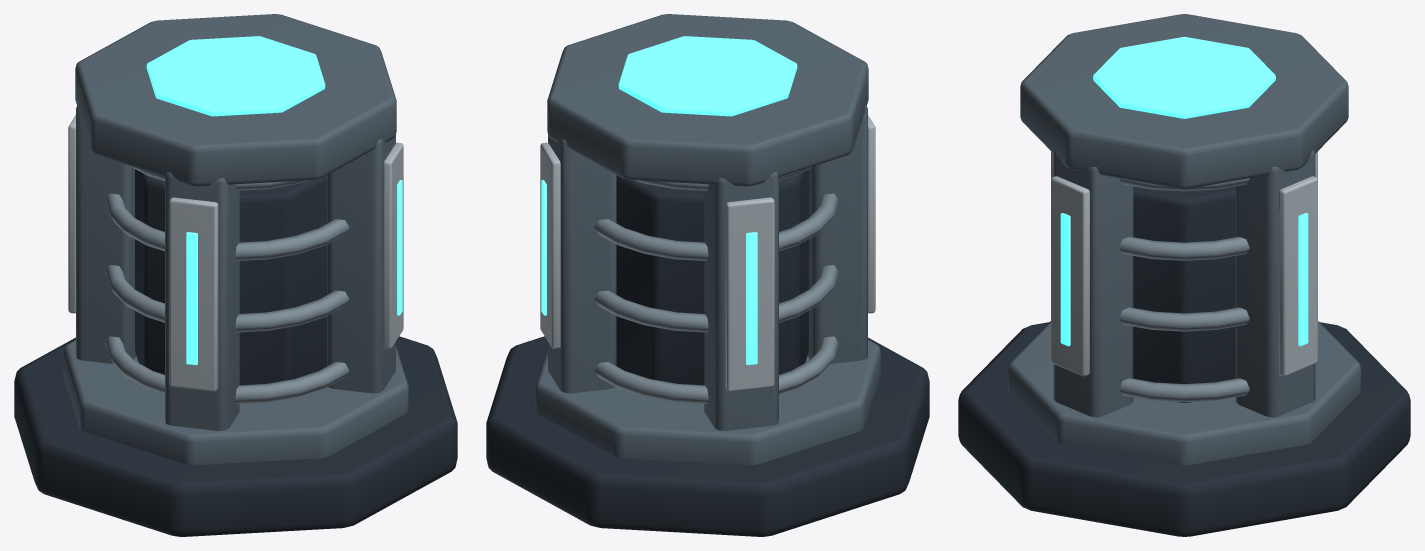
The model's file is defended_core.fbx.
3 views of the same model, side by side, from view 1: azimuth 30°, elevation 25°; view 2: azimuth 150°, elevation 25°; view 3: azimuth 270°, elevation 25° (orthographic).
Parts seen in each view (by area): view 1: defended_core_Geometry; view 2: defended_core_Geometry; view 3: defended_core_Geometry.
Boxes of the visible parts, box(x1,y1,x2,y2) form: defended_core_Geometry: box(14, 14, 457, 536); defended_core_Geometry: box(486, 14, 929, 536); defended_core_Geometry: box(958, 14, 1410, 536).
Size of the model in its own units: 3.3 by 2.99 by 3.3.
